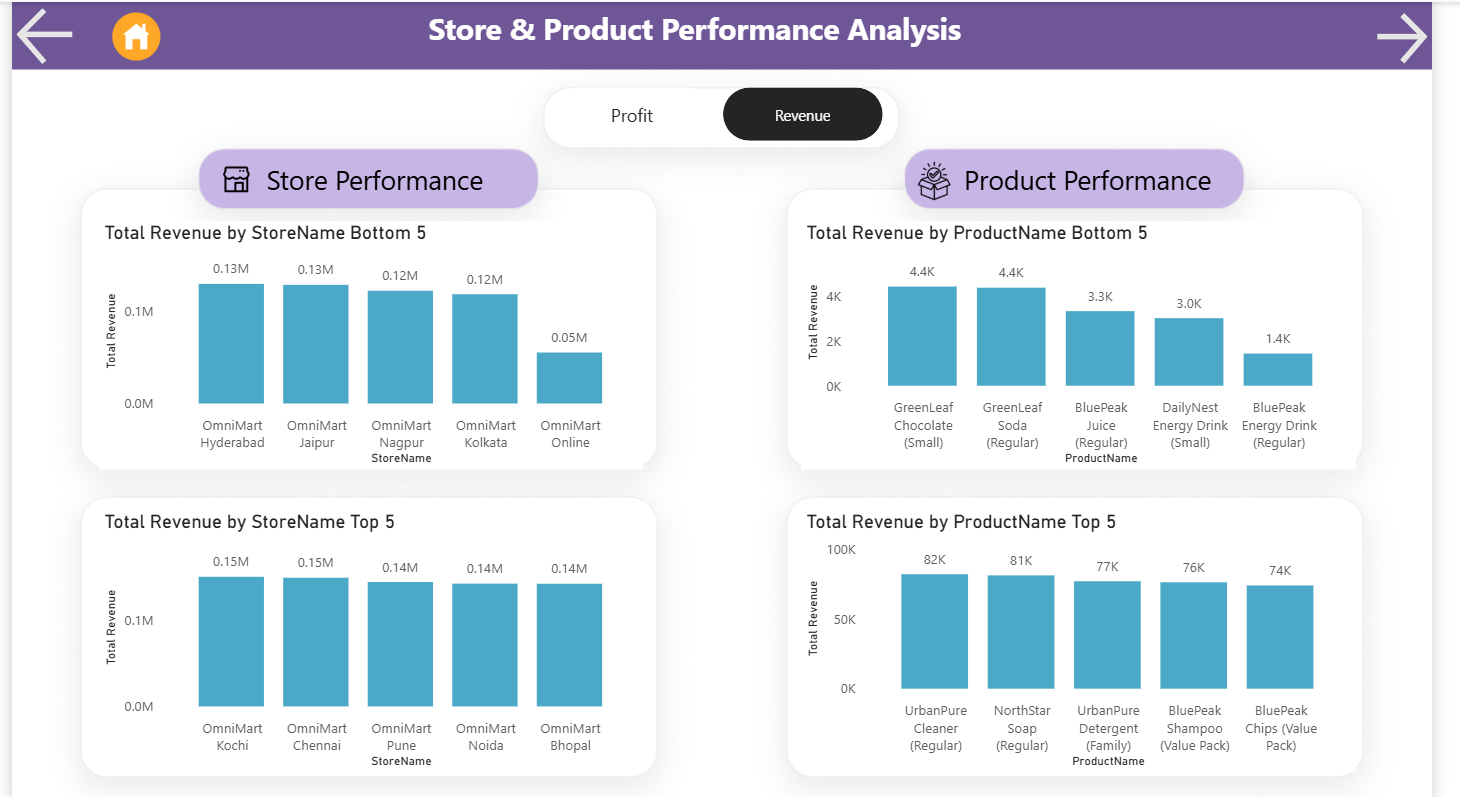

Layout of this report page (visuals, bound fields, positions):
{"tool":"powerbi","page":{"name":"Operational Performance ","canvas":[1280,720],"ordinal":1},"visuals":[{"type":"clusteredColumnChart","title":"Total Revenue by StoreName Bottom 5","fields":{"Category":["DimStore.StoreName"],"Y":["FactSales.Total Revenue"]},"box":[78.7,196.8,490.6,224.1],"z":0},{"type":"clusteredColumnChart","title":"Total Revenue by StoreName Top 5","fields":{"Category":["DimStore.StoreName"],"Y":["FactSales.Total Revenue"]},"box":[78.7,458.8,490.6,236.2],"z":1000},{"type":"clusteredColumnChart","title":"Total Revenue by ProductName Top 5","fields":{"Y":["FactSales.Total Revenue"],"Category":["DimProduct.ProductName"]},"box":[711.7,458.8,499.7,236.2],"z":2000},{"type":"clusteredColumnChart","title":"Total Revenue by ProductName Bottom 5","fields":{"Y":["FactSales.Total Revenue"],"Category":["DimProduct.ProductName"]},"box":[711.7,196.8,499.7,224.1],"z":3000},{"type":"bookmarkNavigator","box":[486.1,77.2,299.8,48.5],"z":8000},{"type":"textbox","box":[224.1,137.8,224.1,45.4],"z":9000},{"type":"textbox","box":[852.7,137.3,240.9,45.5],"z":10000},{"type":"textbox","box":[370,0,563.3,50],"z":11000},{"type":"image","box":[76.7,10,70,43.3],"z":12000},{"type":"actionButton","box":[0,0,76.7,61.7],"z":13000},{"type":"actionButton","box":[1223.5,1.5,56,62.1],"z":14000},{"type":"image","box":[187.8,140.8,28.8,37.9],"z":15000},{"type":"image","box":[813.6,140,34.5,40.9],"z":16000}]}

Visuals, with their boxes on the page's 1280x720 design canvas (x1, y1, x2, y2). These are canvas units, not pixel positions in the 1460x797 screenshot, which may show the page scaled, cropped or inside an application window:
"Total Revenue by StoreName Bottom 5" clusteredColumnChart: crop(79, 197, 569, 421)
"Total Revenue by StoreName Top 5" clusteredColumnChart: crop(79, 459, 569, 695)
"Total Revenue by ProductName Top 5" clusteredColumnChart: crop(712, 459, 1211, 695)
"Total Revenue by ProductName Bottom 5" clusteredColumnChart: crop(712, 197, 1211, 421)
bookmarkNavigator: crop(486, 77, 786, 126)
textbox: crop(224, 138, 448, 183)
textbox: crop(853, 137, 1094, 183)
textbox: crop(370, 0, 933, 50)
image: crop(77, 10, 147, 53)
actionButton: crop(0, 0, 77, 62)
actionButton: crop(1224, 2, 1280, 64)
image: crop(188, 141, 217, 179)
image: crop(814, 140, 848, 181)
